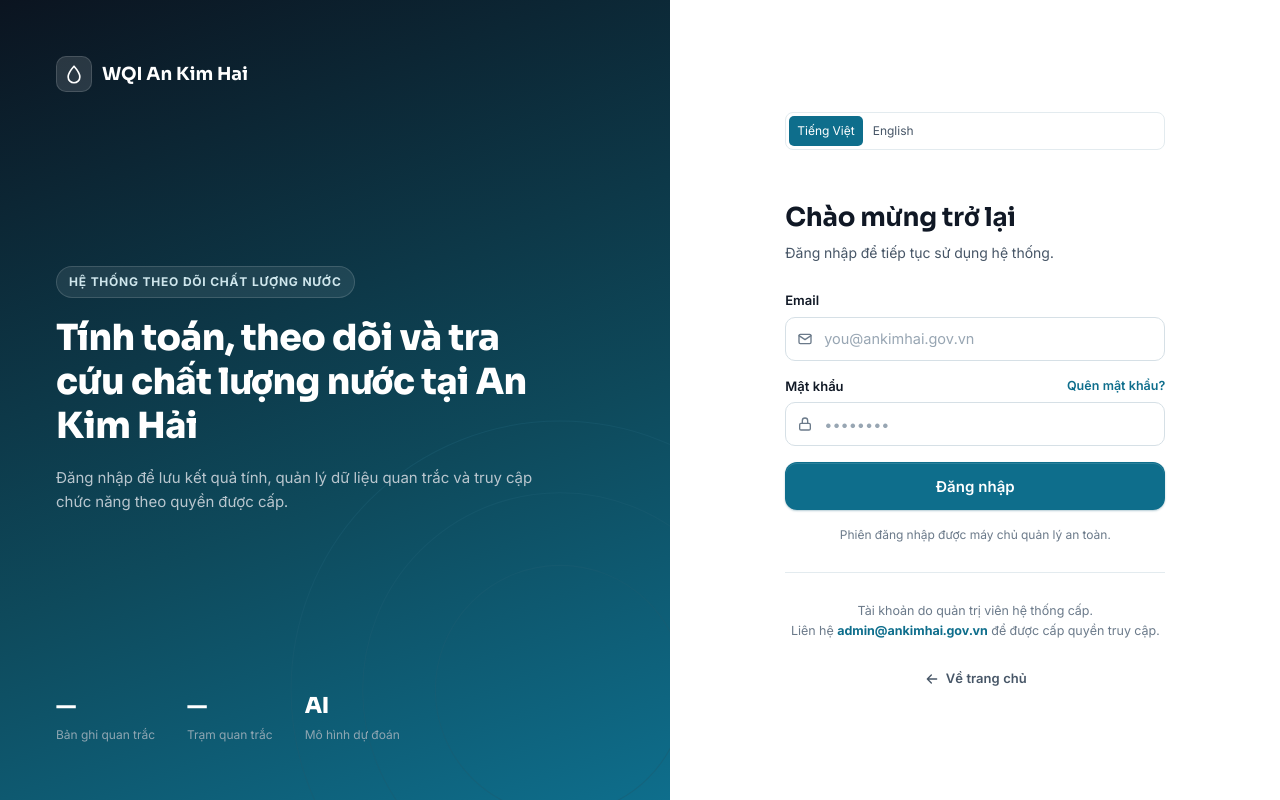
Test case: bilingual user workflows with isolated HTTP fixtures › translates an existing login failure without clearing credentials or resubmitting
Check: the button "Đăng nhập" is enabled, box [785,462,1165,510]
Type "wrong@example.test" into the field labelled "Email".
click(975, 338); type("wrong@example.test")  # box [785,316,1165,360]
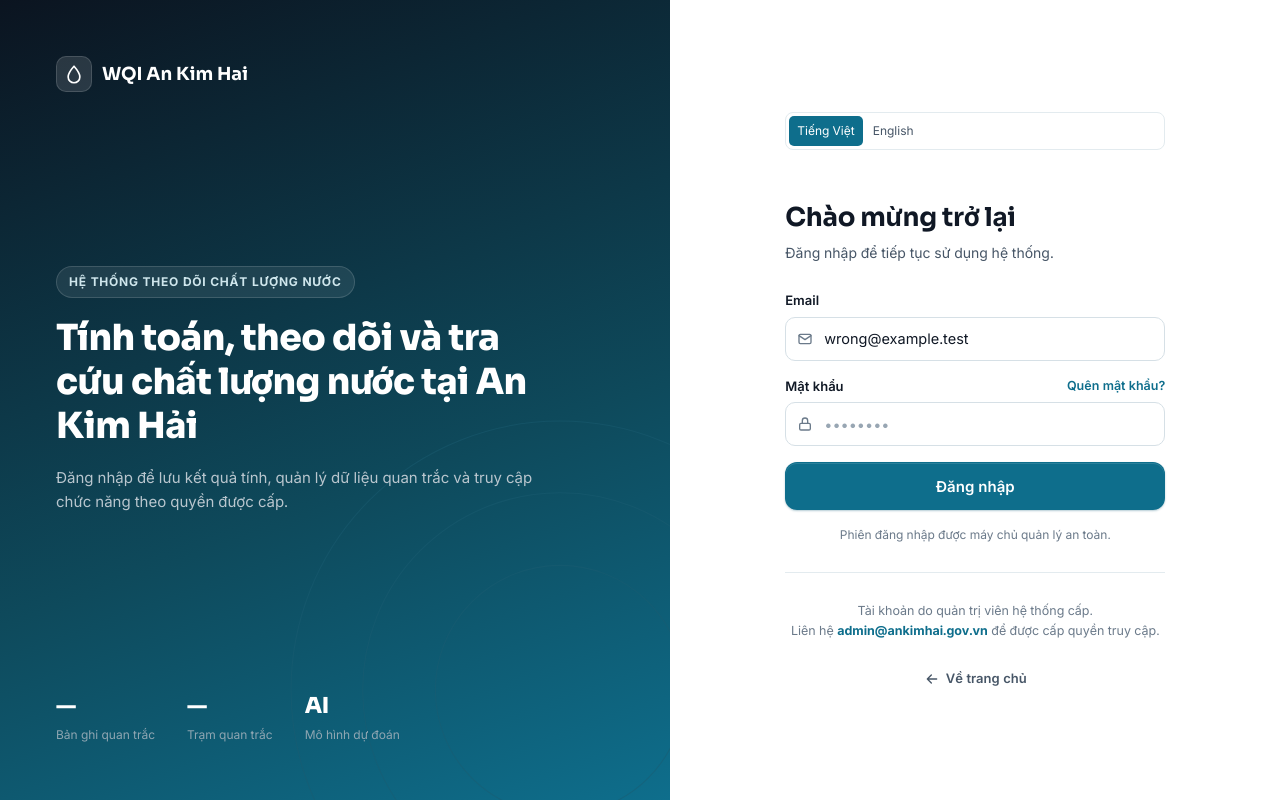
Type "invalid-password" into the password field labelled "Mật khẩu".
click(975, 424); type("invalid-password")  # box [785,402,1165,446]
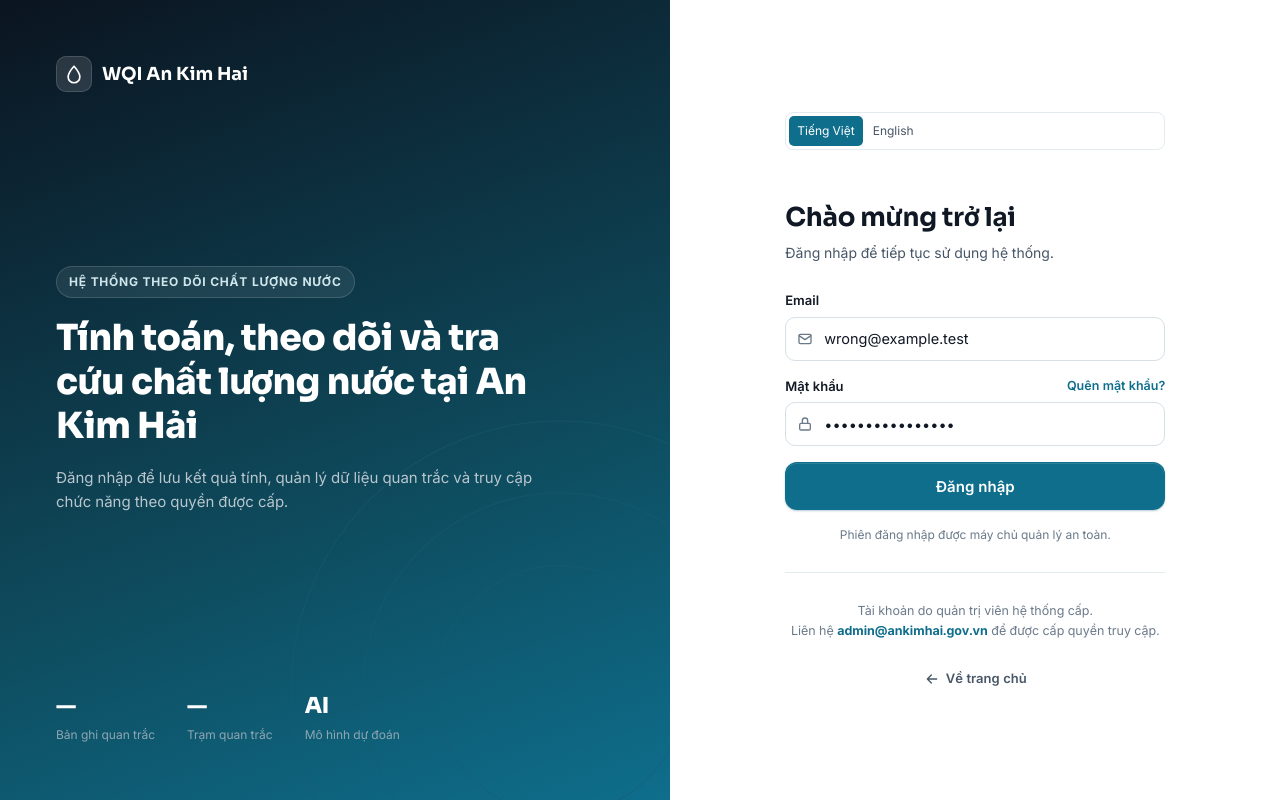
Click the button "Đăng nhập".
click(975, 486)  # box [785,462,1165,510]
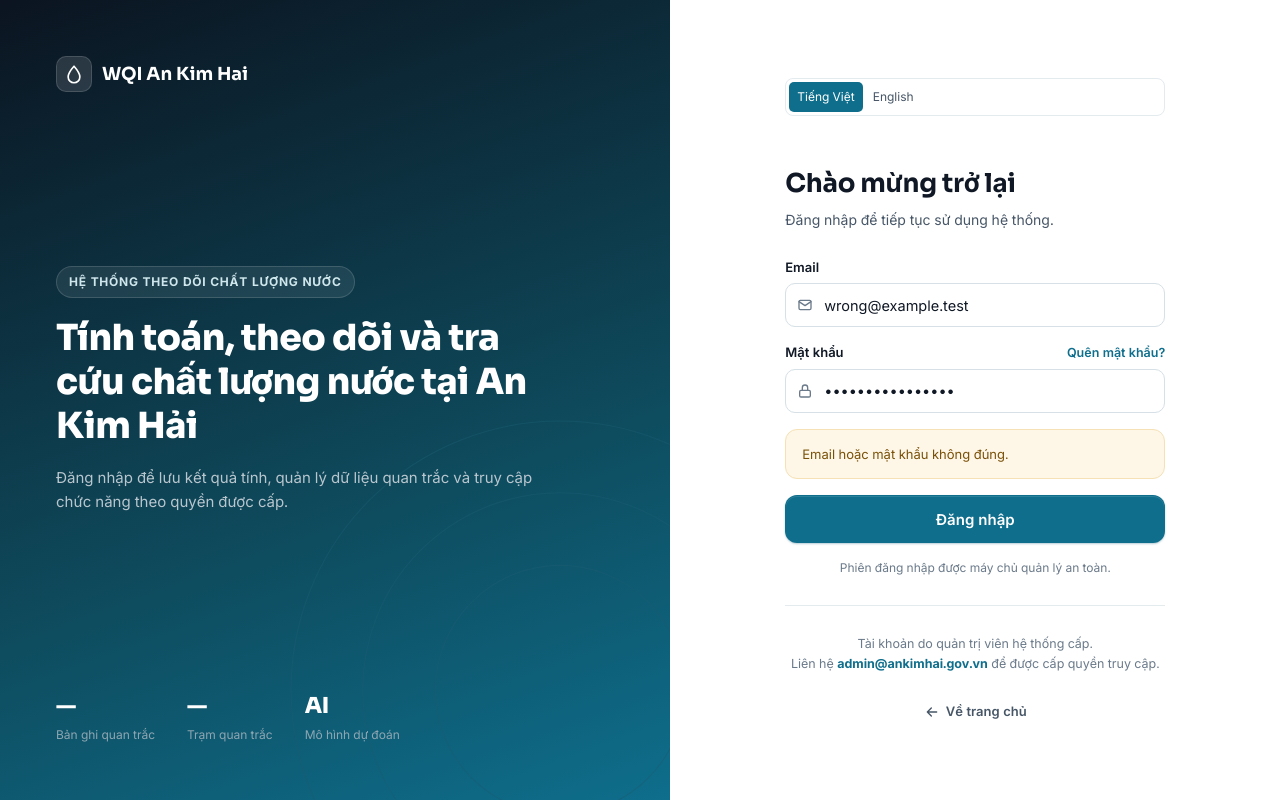
Check: the text "Email hoặc mật khẩu không đúng." is shown, box [802,444,1008,464]
Click the button "English".
click(893, 97)  # box [865,82,922,112]
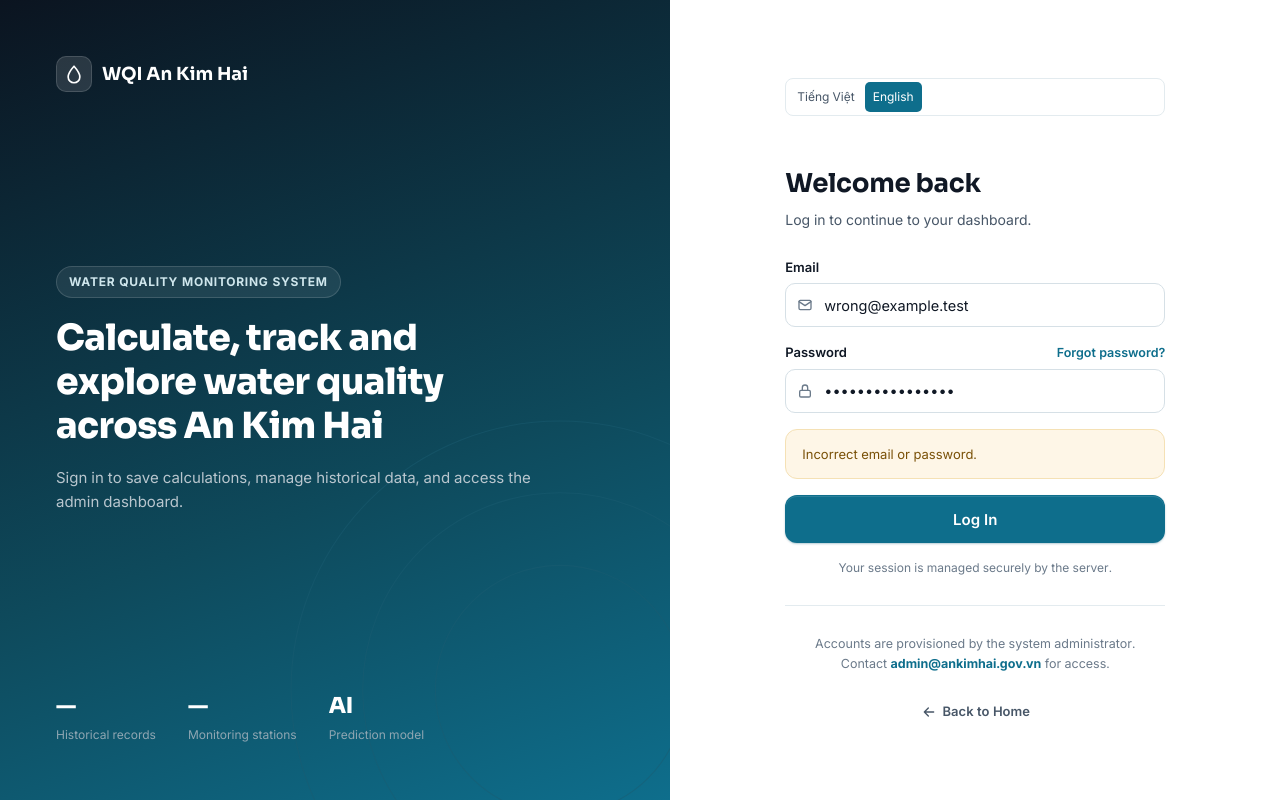
Check: the message reads "Incorrect email or password.", box [802,446,977,462]
